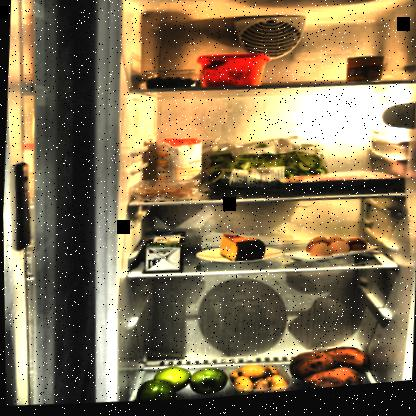apple: (134, 361, 231, 406)
blueberries: (144, 68, 203, 95)
butter: (192, 50, 271, 98)
cheese: (218, 234, 268, 268)
corn: (345, 59, 385, 91)
eggs: (300, 232, 371, 270)
ground_beef: (273, 168, 403, 207)
milk: (142, 229, 186, 277)
potato: (224, 364, 290, 400)
spinach: (199, 141, 332, 204)
sweet_potato: (282, 346, 373, 396)
